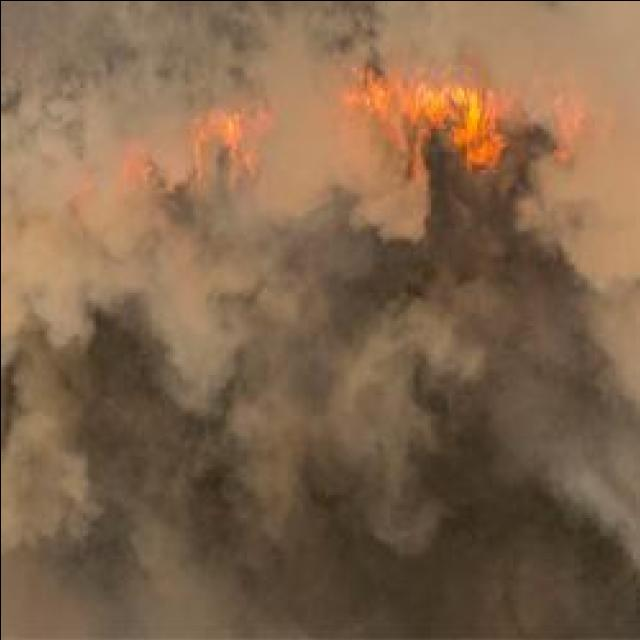fire: (418, 74, 497, 140)
smoke: (532, 43, 640, 300), (242, 0, 353, 218), (318, 0, 438, 72), (350, 152, 430, 240)
